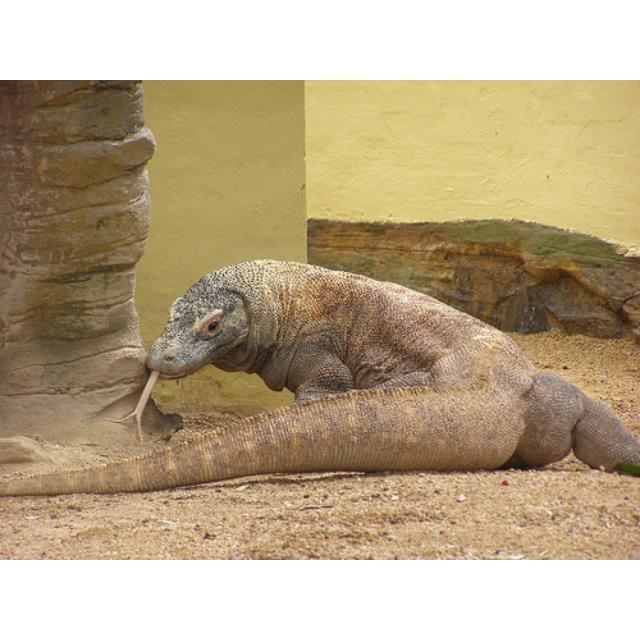KomodoDragon: (1, 256, 638, 496)
